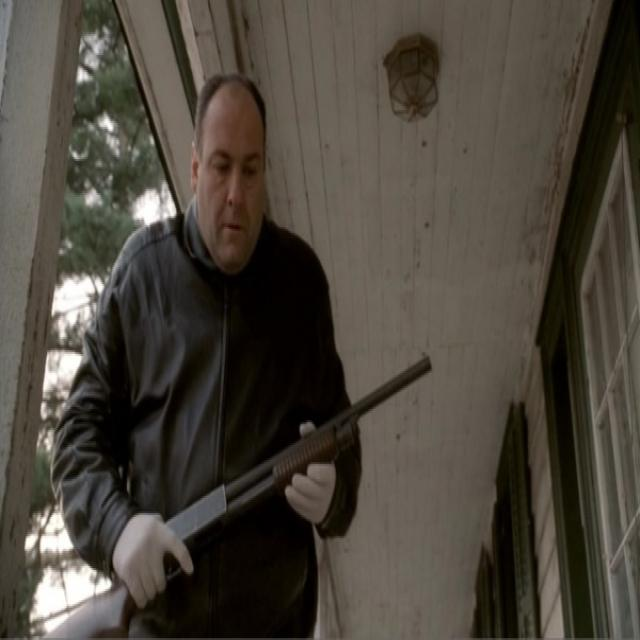rifle: (35, 348, 441, 640)
